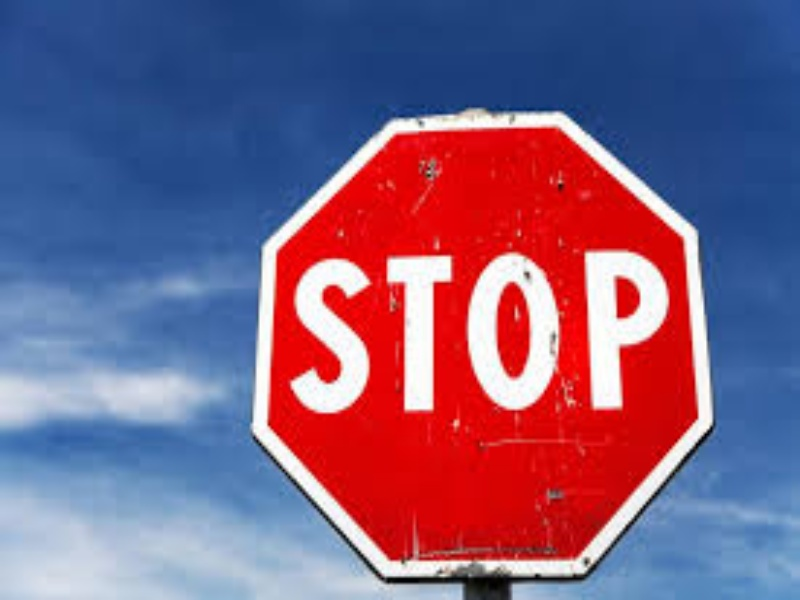Stop_Sign: (258, 114, 703, 572)
